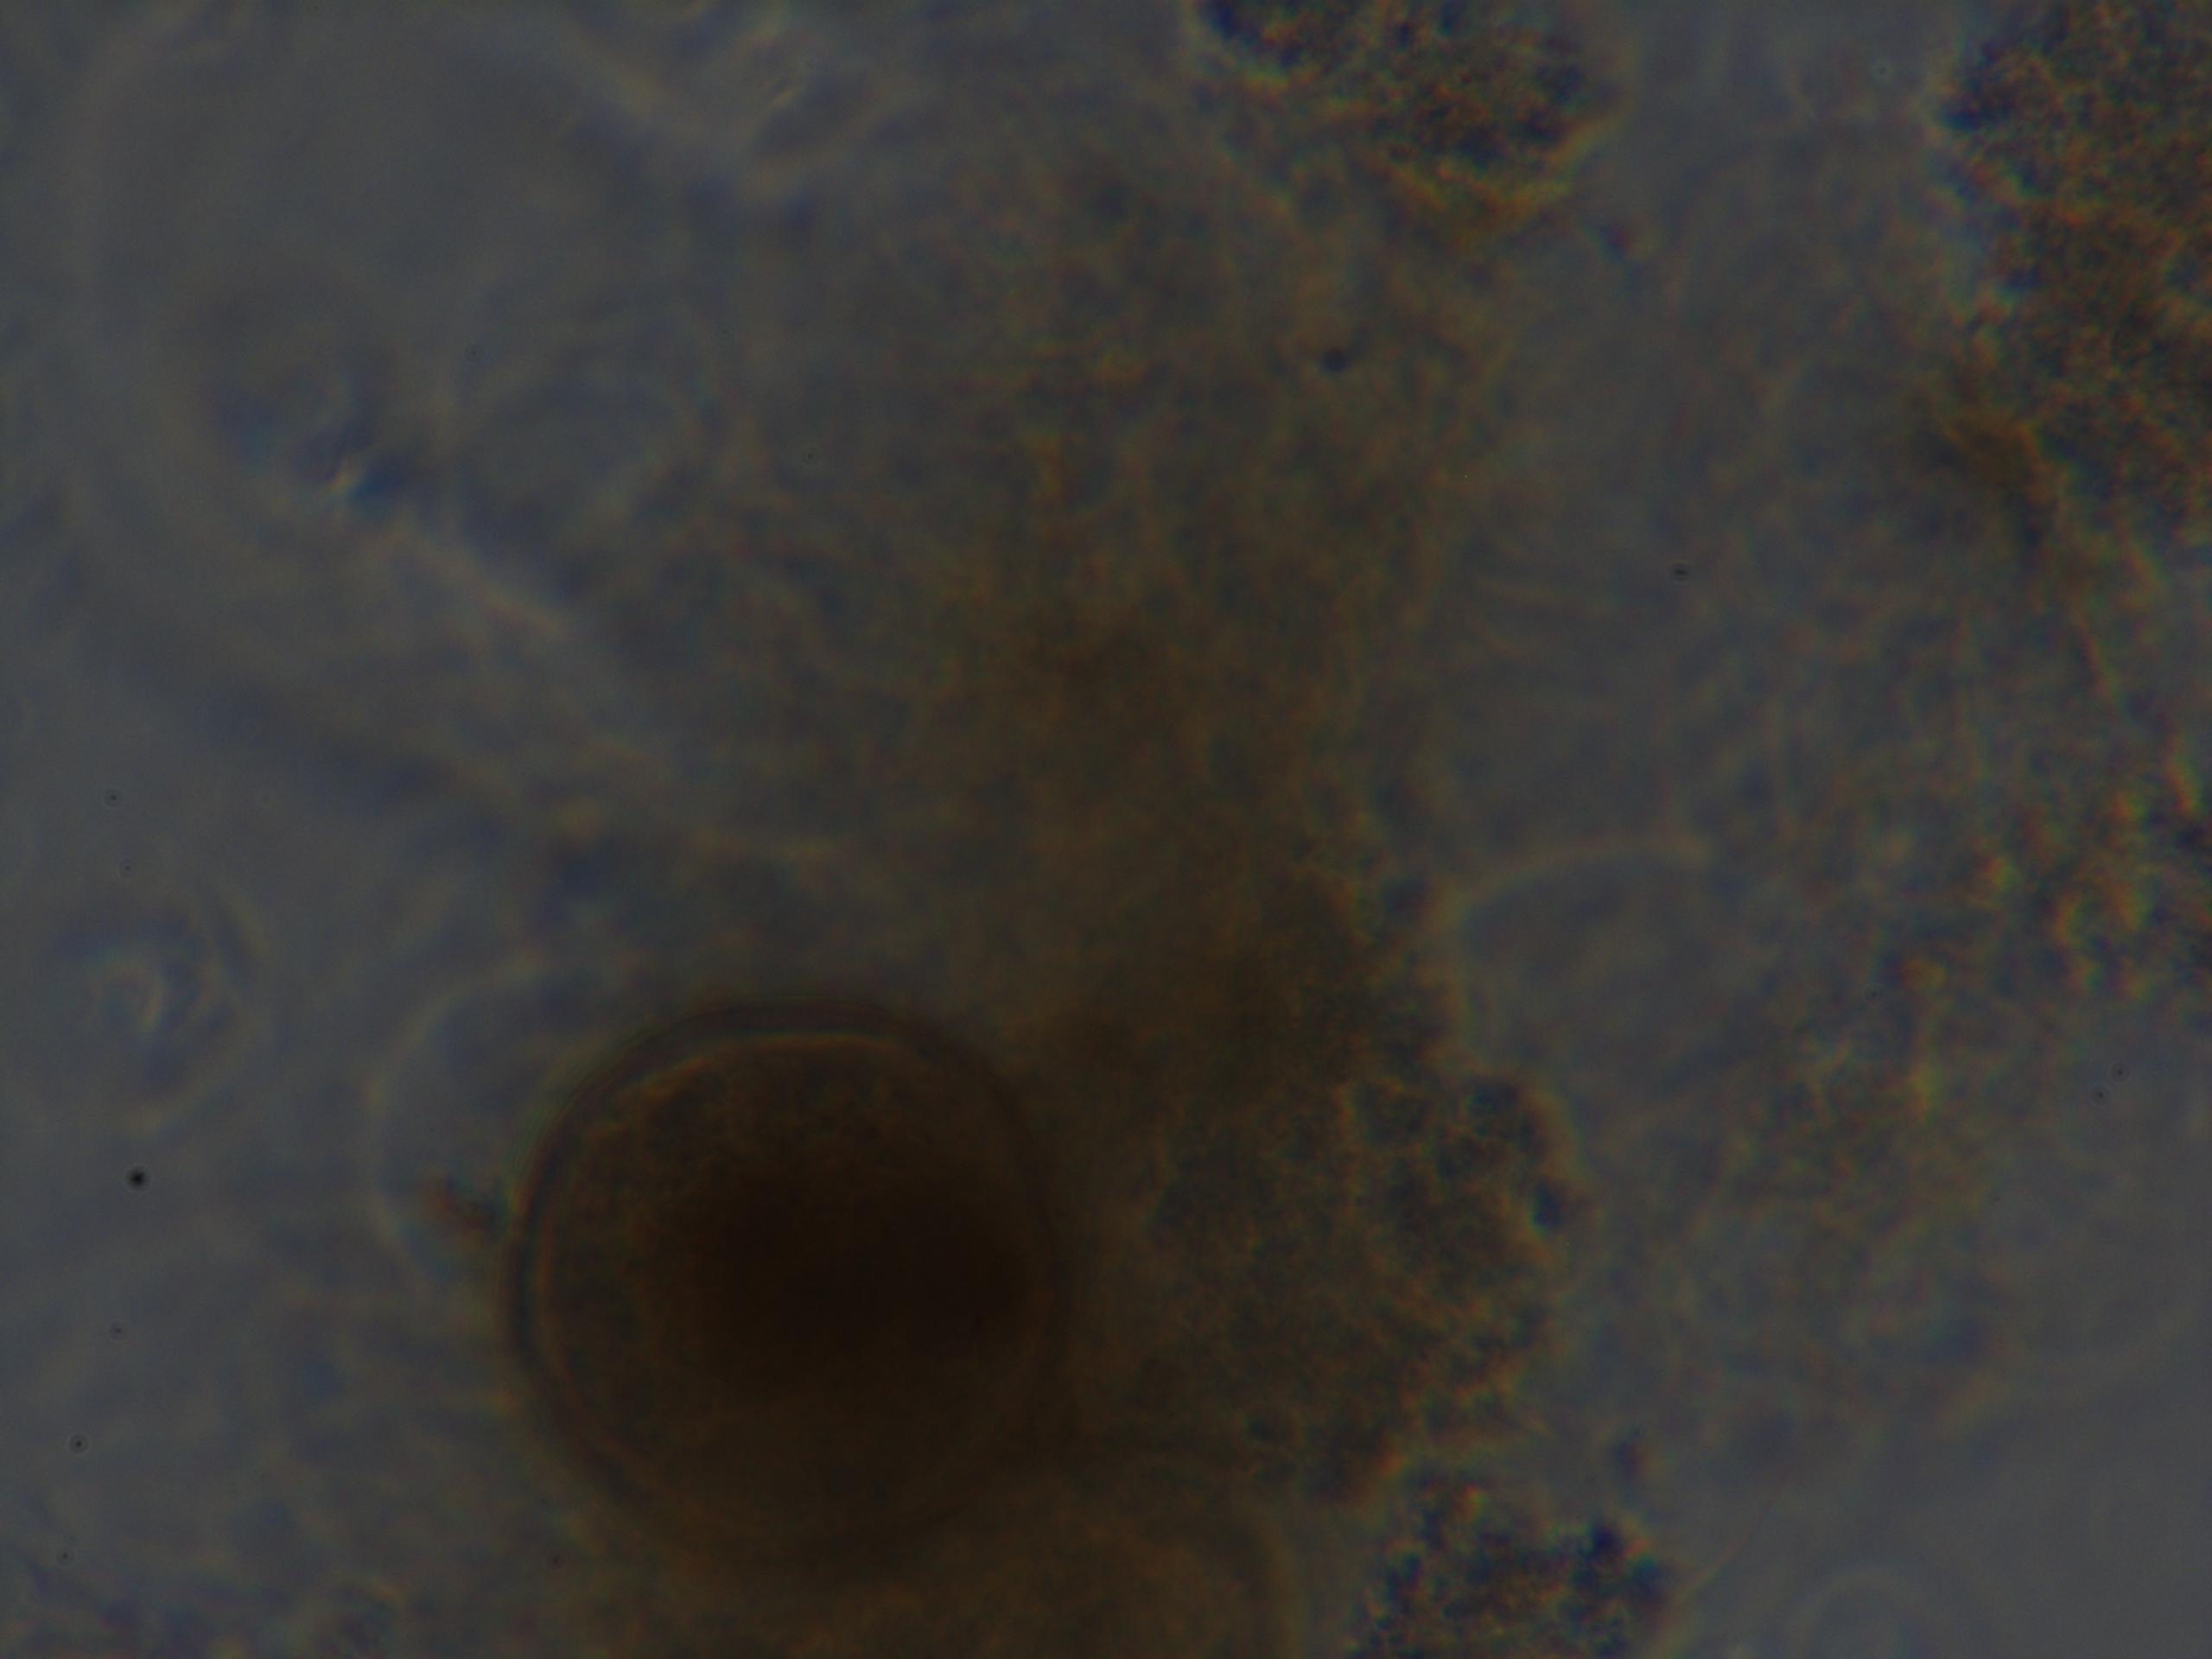protozoa: (462, 969, 1115, 1575)
